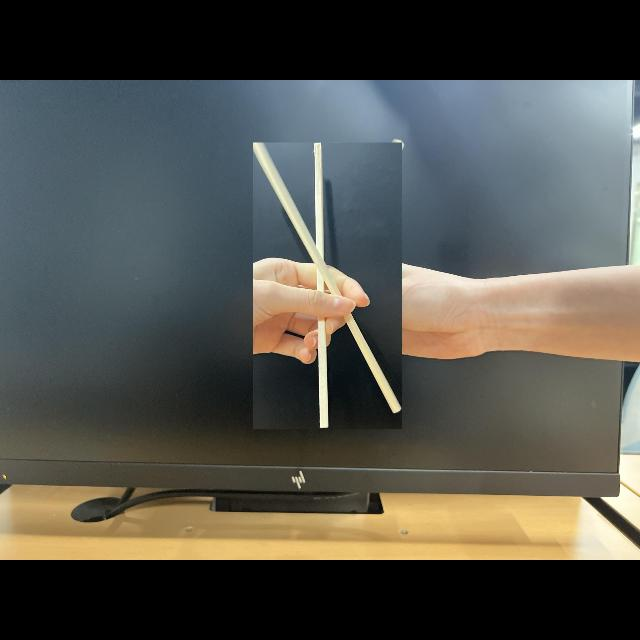stick: (253, 143, 402, 429)
